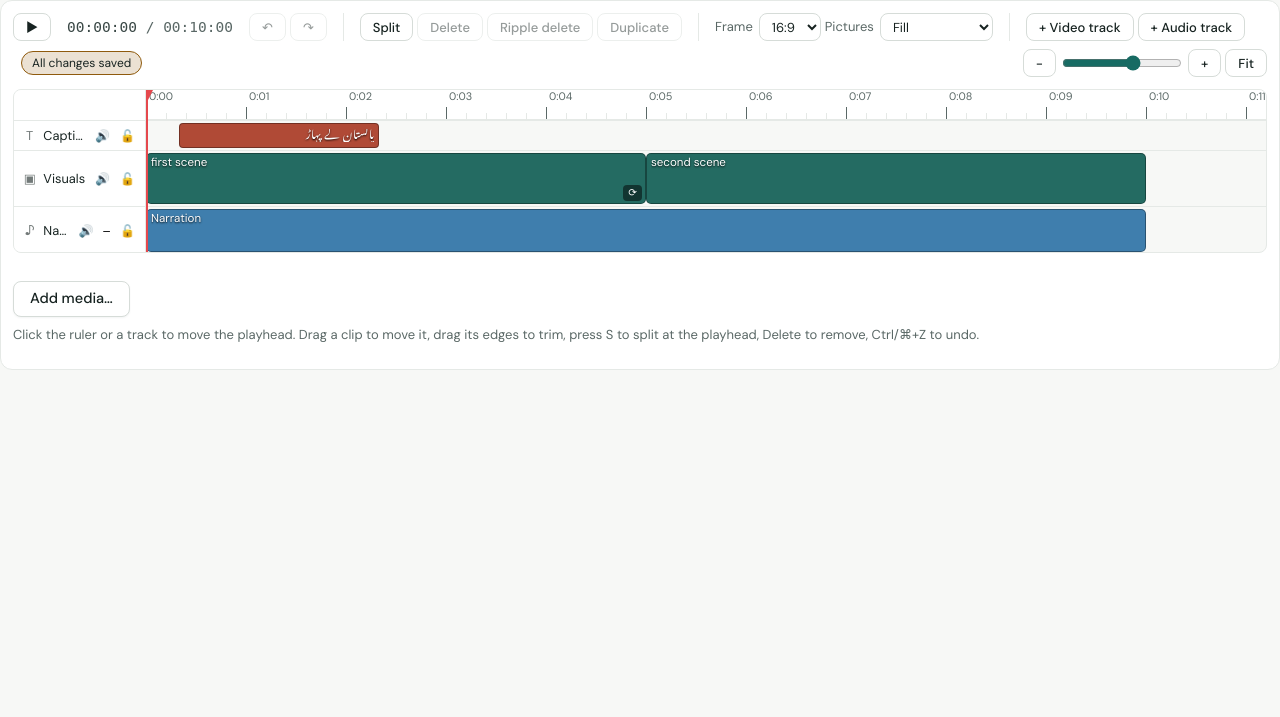
Test: Timeline editing › a conflict is shown, edits stay, and nothing more is sent
Expected: the element named "Timeline" is shown, [0,0,1279,370]
Press the mouse on the button "first scene ⟳" at (179, 162), box [146,153,646,204]
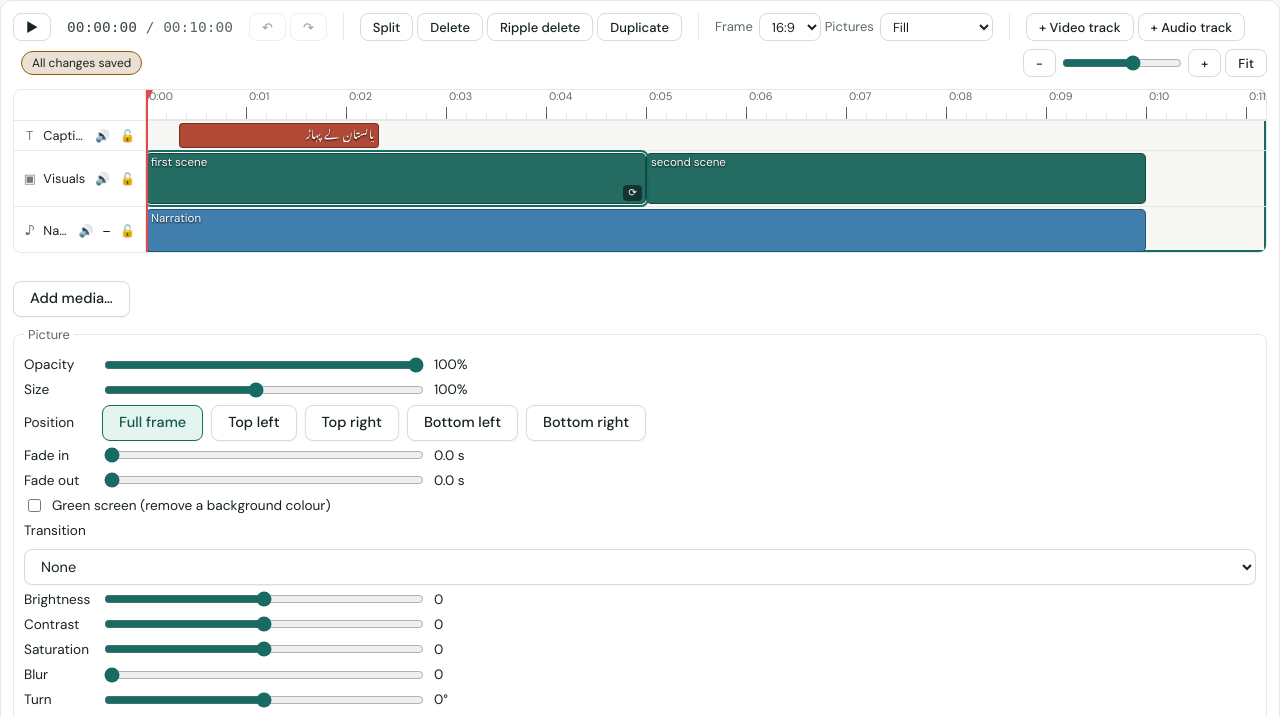
Press Delete
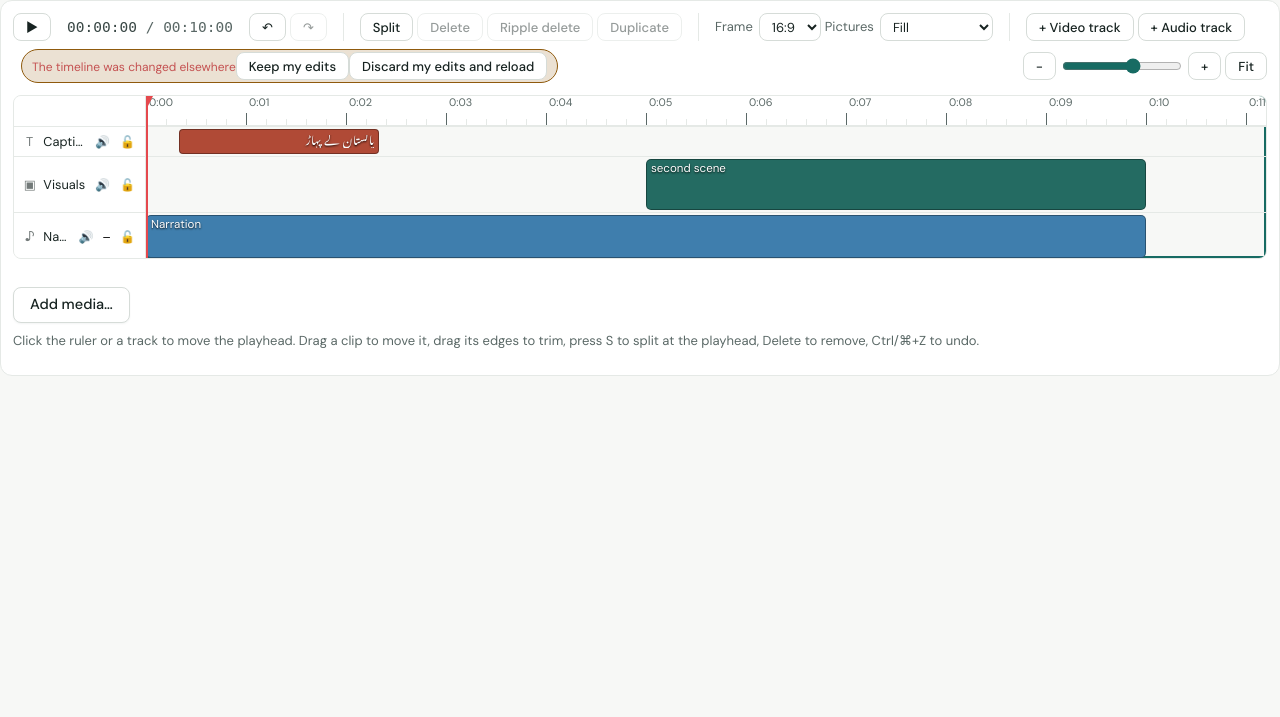
Now the text "The timeline was changed elsewhere Keep my edits Discard my edits and reload" is shown, box [21,49,558,83]
Now the button "Discard my edits and reload" is shown, box [349,52,547,80]
Now the button "Keep my edits" is shown, box [236,52,349,80]
